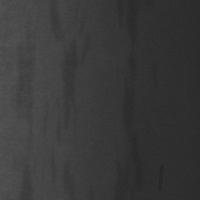inclusion: (114, 2, 149, 192), (48, 5, 85, 142), (12, 21, 40, 193), (157, 163, 163, 192)
